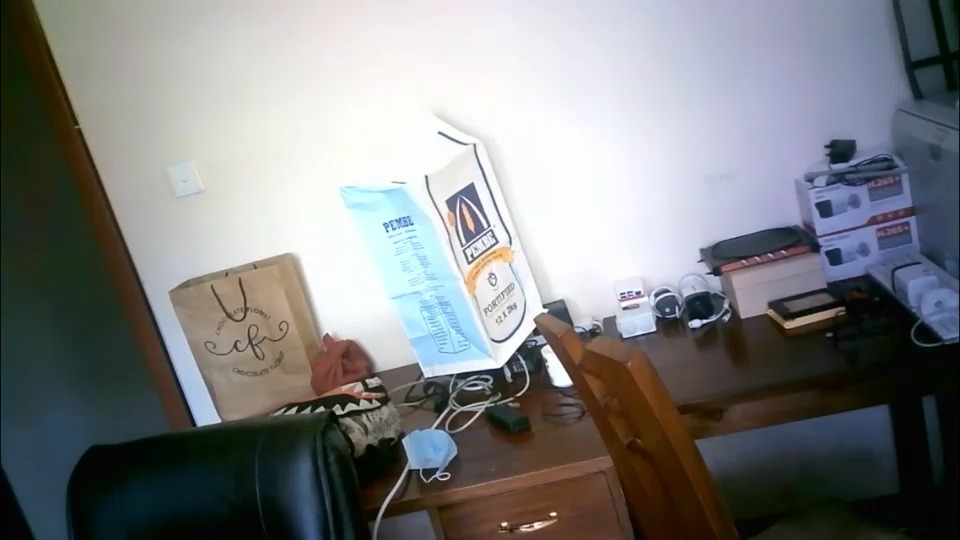wheat_flour_blue_label: (339, 114, 546, 374)
